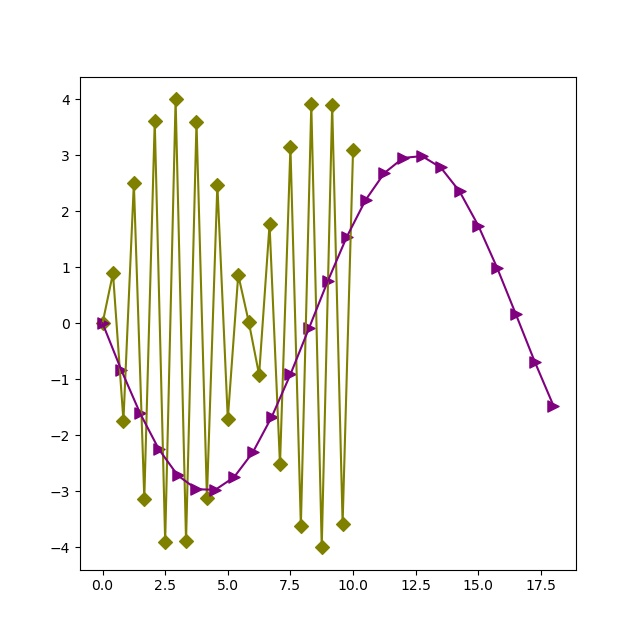diamond: (97, 318, 109, 330), (107, 268, 119, 280), (118, 415, 130, 427), (128, 178, 140, 190), (139, 493, 151, 505), (149, 116, 161, 128), (160, 536, 172, 548), (170, 94, 182, 106), (181, 536, 193, 548), (191, 116, 203, 128), (201, 492, 213, 504), (212, 179, 224, 191), (222, 414, 234, 426), (233, 269, 245, 281), (243, 316, 255, 328), (254, 369, 266, 381), (264, 219, 276, 231), (274, 459, 286, 471), (285, 141, 297, 153), (295, 520, 307, 532), (306, 99, 318, 111), (316, 542, 328, 554), (327, 100, 339, 112), (337, 518, 349, 530), (348, 144, 360, 156)
triangle_right: (97, 317, 110, 330), (115, 364, 128, 377), (134, 407, 147, 420), (153, 443, 166, 456), (172, 469, 185, 482), (190, 483, 203, 496), (209, 484, 222, 497), (228, 471, 241, 484), (247, 446, 260, 459), (266, 411, 279, 424), (284, 368, 297, 381), (303, 322, 316, 335), (322, 275, 335, 288), (341, 231, 354, 244), (360, 194, 373, 207), (378, 167, 391, 180), (397, 152, 410, 165), (416, 150, 429, 163), (435, 161, 448, 174), (454, 185, 467, 198), (472, 220, 485, 233), (491, 262, 504, 275), (510, 308, 523, 321), (529, 356, 542, 369), (547, 400, 560, 413)
